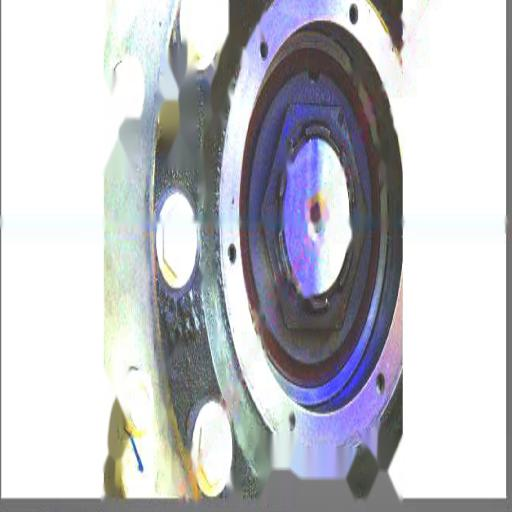center: (306, 195, 326, 237)
notch: (306, 59, 324, 93)
